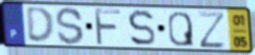D: (24, 6, 57, 45)
F: (93, 7, 123, 47)
Q: (167, 10, 196, 48)
S: (54, 6, 86, 47), (126, 8, 157, 47)
Z: (196, 10, 228, 50)
